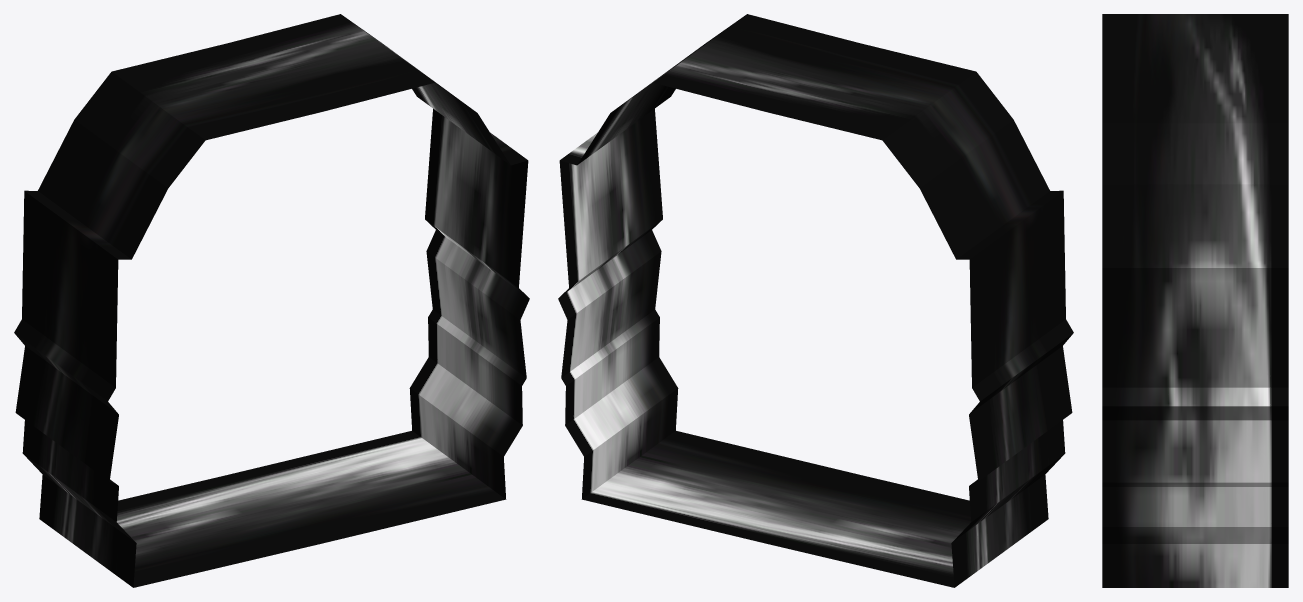
The model's file is kuang.FBX.
3 views of the same model, side by side, from view 1: azimuth 30°, elevation 25°; view 2: azimuth 150°, elevation 25°; view 3: azimuth 270°, elevation 25° (orthographic).
Visible parts, largest first — view 1: kuang; view 2: kuang; view 3: kuang.
Part boxes in pixels (<box>): kuang: <box>14,14,529,587</box>; kuang: <box>558,14,1073,587</box>; kuang: <box>1102,14,1288,587</box>.
Size of the model in its own units: 253 by 248 by 97.5.
1 material, 1 textured.
